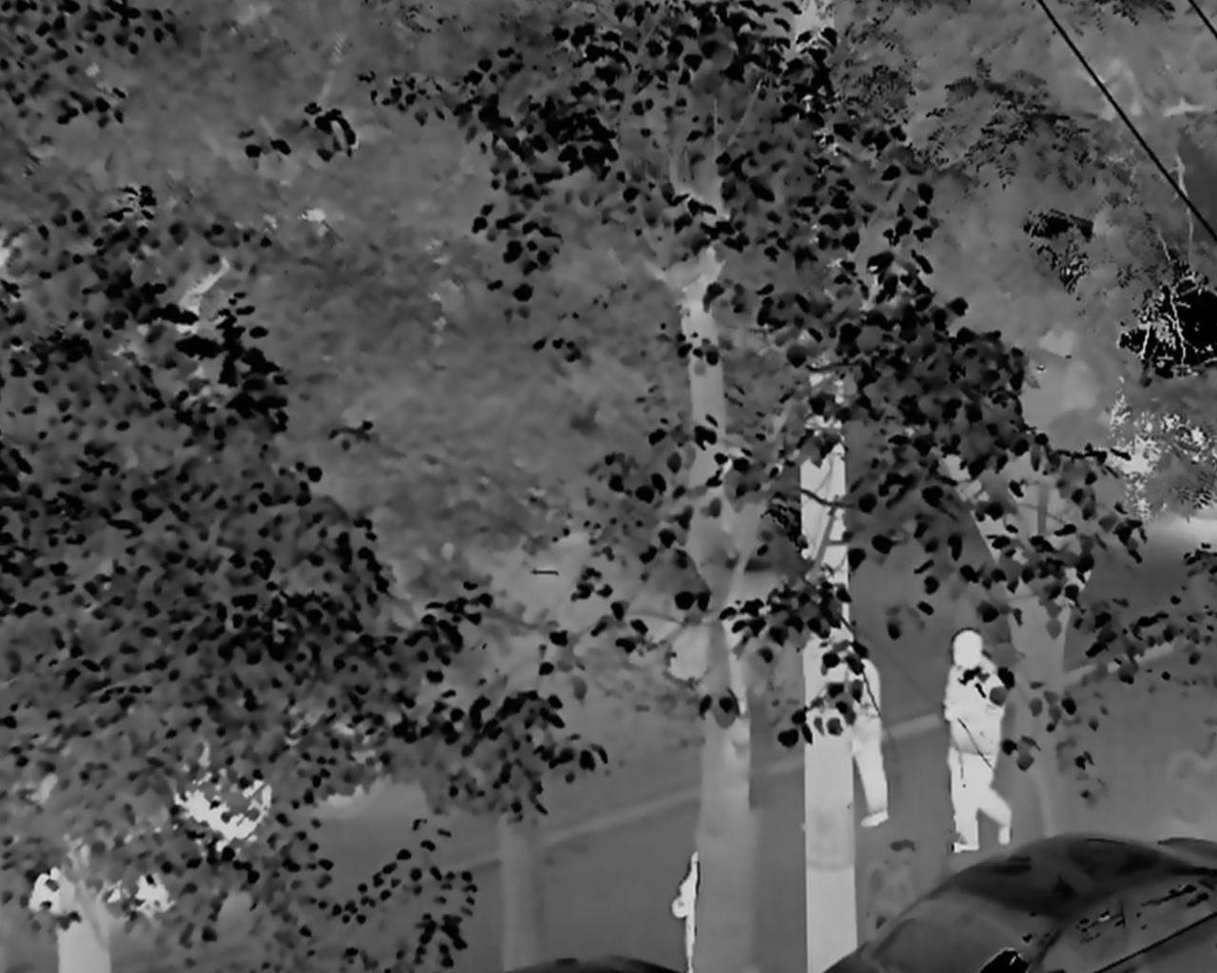person: (943, 631, 1020, 855)
